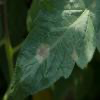Tomato leaf late blight: (6, 1, 99, 98)
